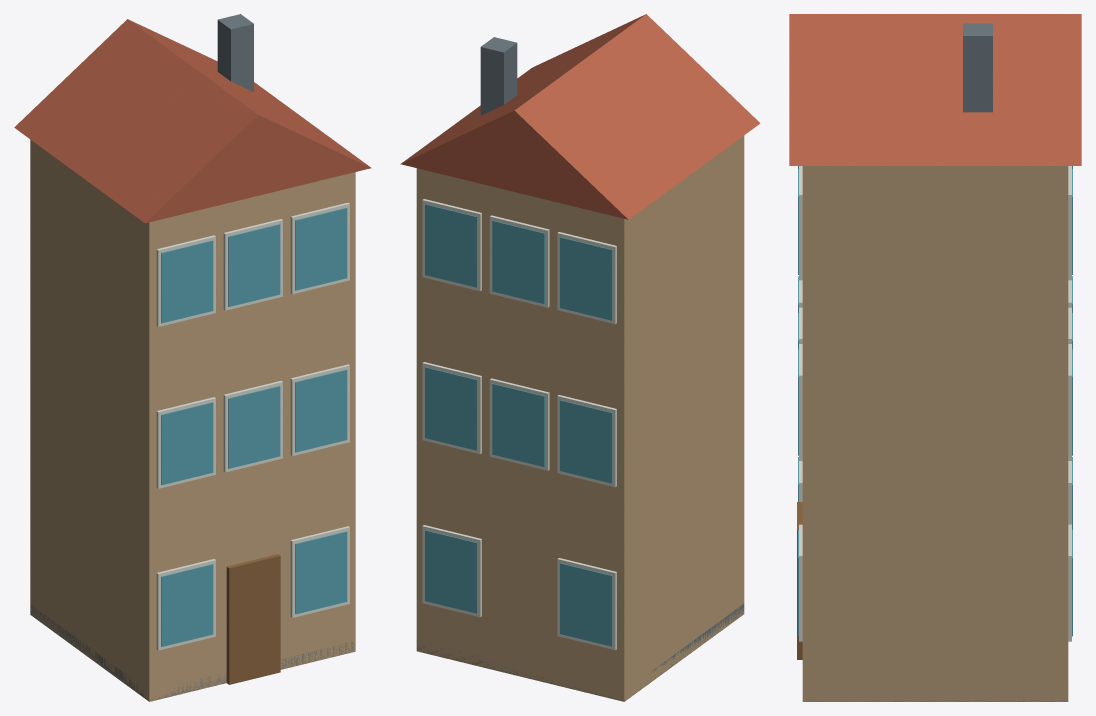
File: house-tall.glb
3 renders of one model, left to right at view 1: azimuth 30°, elevation 25°; view 2: azimuth 150°, elevation 25°; view 3: azimuth 270°, elevation 25°, orthographic. The views are drawn at different scales.
Visible parts, largest first — view 1: Building wall volume 001, Pitched roof 036, Entry door 035, Window blue glazing 012, Window blue glazing 004, Window blue glazing 020, Window blue glazing 024, Window blue glazing 028, Window blue glazing 032, Window blue glazing 008, Window blue glazing 016, Chimney 037 (+9 smaller); view 2: Building wall volume 001, Pitched roof 036, Window blue glazing 010, Window blue glazing 022, Window blue glazing 034, Window blue glazing 018, Window blue glazing 026, Window blue glazing 030, Window blue glazing 006, Window blue glazing 014, Chimney 037, Window trim 017 (+8 smaller); view 3: Building wall volume 001, Pitched roof 036, Chimney 037, Window trim 007, Window trim 009, Window trim 019, Window trim 021, Window trim 031, Window trim 033.
Boxes of the visible parts, x1,y1,x2,y2 form: Building wall volume 001: (30,139,355,701); Pitched roof 036: (14,19,371,223); Entry door 035: (226,554,280,684); Window blue glazing 012: (161,402,213,484); Window blue glazing 004: (161,564,213,646); Window blue glazing 020: (295,369,347,452); Window blue glazing 024: (161,240,213,323); Window blue glazing 028: (228,224,280,306); Window blue glazing 032: (295,207,347,290); Window blue glazing 008: (295,531,347,614); Window blue glazing 016: (228,386,280,468); Chimney 037: (217,14,253,91); Building wall volume 001: (416,135,744,701); Pitched roof 036: (400,14,760,219); Window blue glazing 010: (425,530,477,613); Window blue glazing 022: (425,367,477,450); Window blue glazing 034: (425,204,477,287); Window blue glazing 018: (492,383,544,466); Window blue glazing 026: (560,237,612,320); Window blue glazing 030: (492,220,544,303); Window blue glazing 006: (560,563,612,646); Window blue glazing 014: (560,400,612,483); Chimney 037: (480,37,517,115); Window trim 017: (489,378,549,470); Building wall volume 001: (802,166,1068,701); Pitched roof 036: (789,14,1081,165); Chimney 037: (963,23,992,112); Window trim 007: (799,524,802,641); Window trim 009: (1068,524,1071,641); Window trim 019: (799,344,802,460); Window trim 021: (1068,344,1071,460); Window trim 031: (799,166,802,280); Window trim 033: (1068,166,1071,280).
Size of the model in its own units: 4.4 by 10.8 by 4.4.
6 materials, 6 textured.
